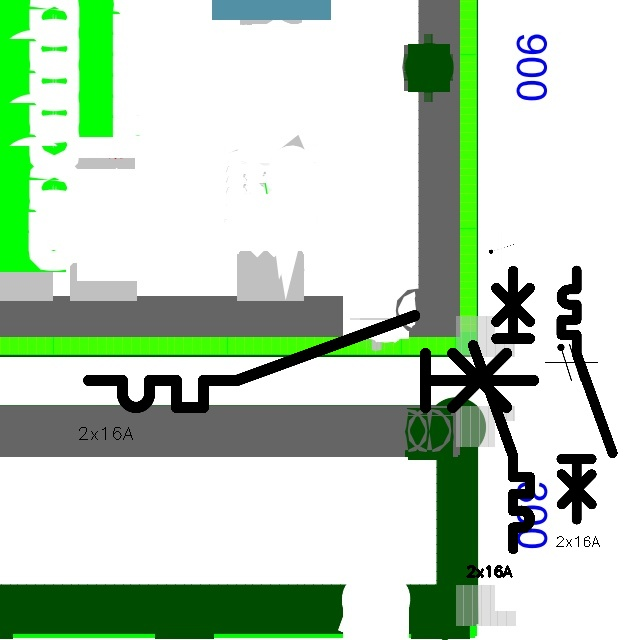interruptor_termomagnetico: (77, 304, 545, 419), (466, 264, 537, 556), (555, 264, 619, 525)
